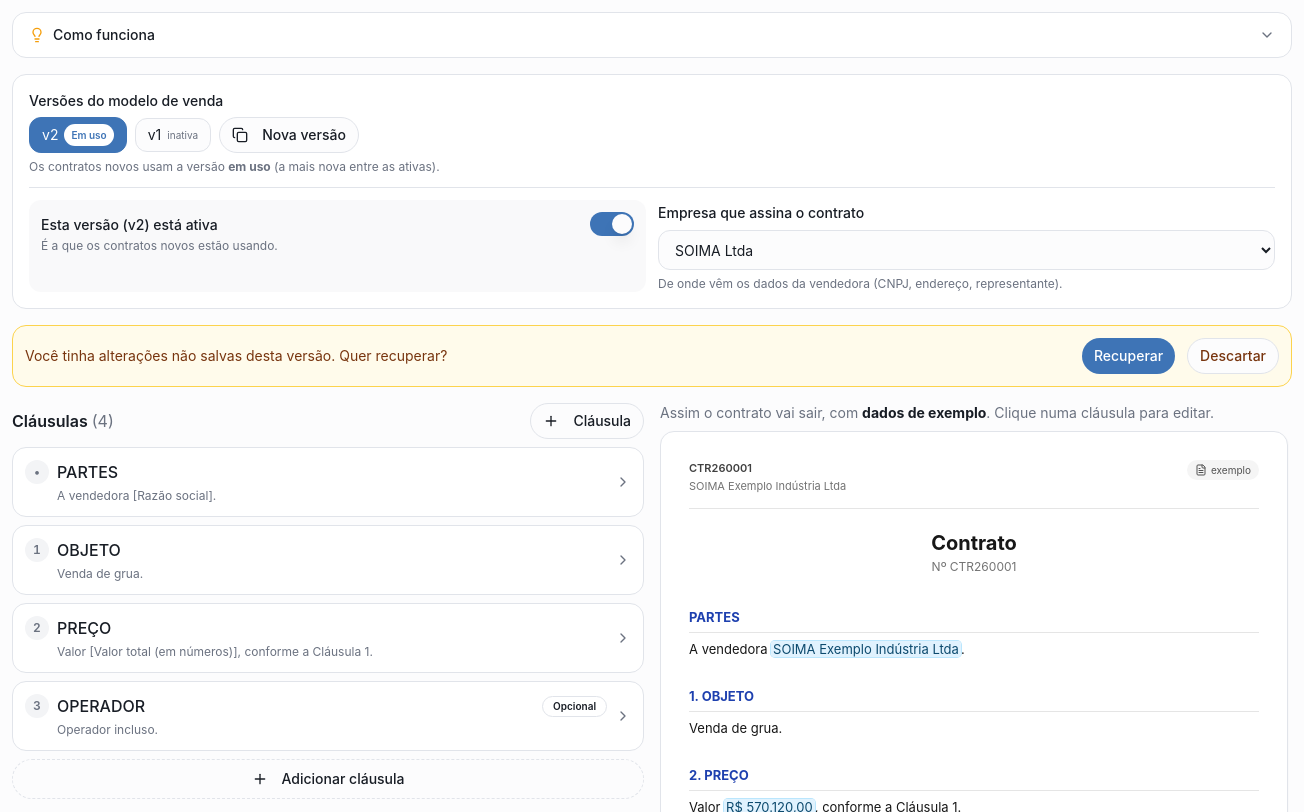
it: editor do modelo — rascunho guardado, versões e proteção › o rascunho é guardado no navegador e oferecido de volta ao reabrir
This screenshot has width=1304, height=812.
Earlier steps of the test are not shown.
Expected: the text "Você tinha alterações não salvas desta versão" is shown, [25,347,447,364]
Click the button "Recuperar".
click(1128, 356)  # box [1082,338,1175,374]
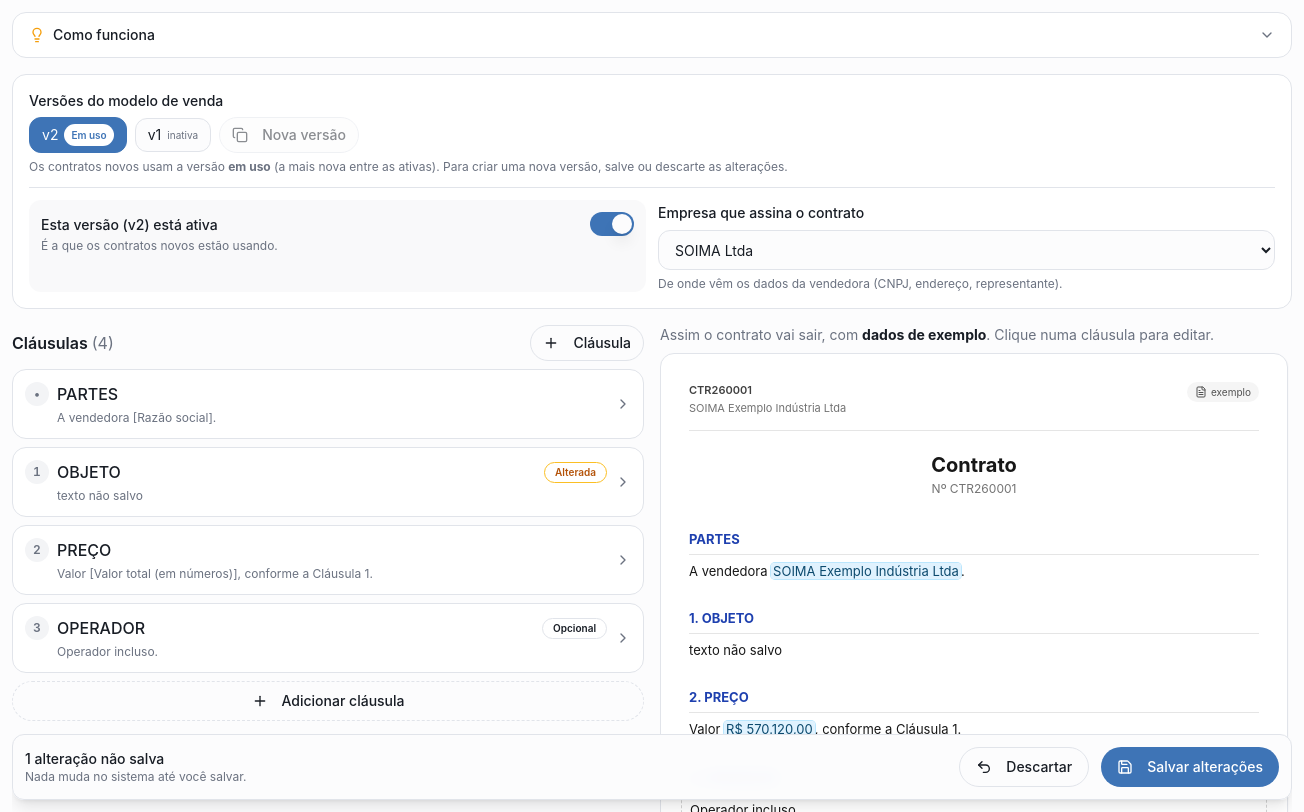
Result: the message named "Alterações pendentes" shows "1 alteração não salva" at [12,734,1292,800]
Result: the text "Você tinha alterações" is gone
